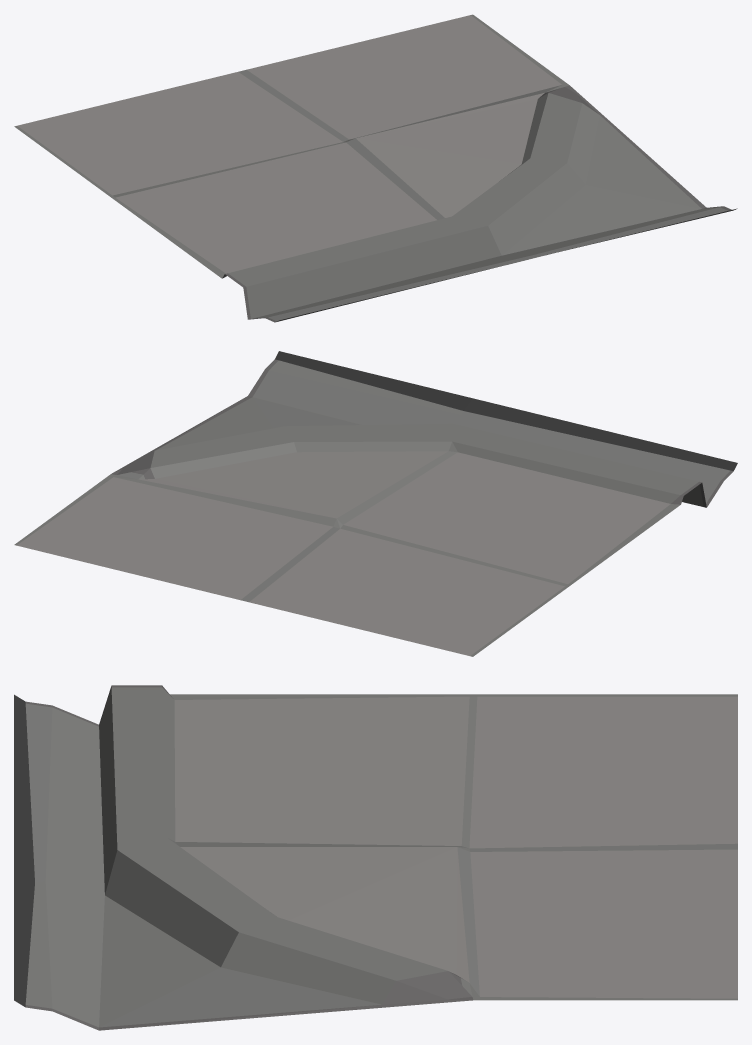
The model's file is SM_Env_Sidewalk_Driveway_01.fbx.
The picture shows the model from 3 angles, top to bottom: view 1: azimuth 30°, elevation 25°; view 2: azimuth 150°, elevation 25°; view 3: azimuth 270°, elevation 25°; orthographic projection. The views are drawn at different scales.
Visible parts, largest first — view 1: SM_Env_Sidewalk_Driveway_01; view 2: SM_Env_Sidewalk_Driveway_01; view 3: SM_Env_Sidewalk_Driveway_01.
Part boxes in pixels (x1=…): SM_Env_Sidewalk_Driveway_01: x1=14, y1=14, x2=737, y2=322; SM_Env_Sidewalk_Driveway_01: x1=14, y1=351, x2=737, y2=656; SM_Env_Sidewalk_Driveway_01: x1=14, y1=685, x2=737, y2=1030.
Bounding box in the file's own units: 500 × 30 × 500.
